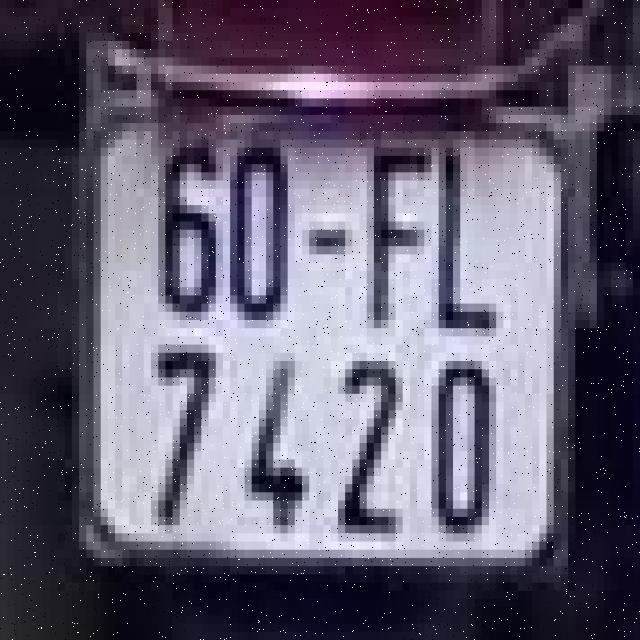0: (424, 353, 511, 541), (223, 135, 309, 324)
2: (331, 336, 410, 550)
4: (238, 344, 316, 542)
6: (148, 135, 226, 324)
7: (144, 336, 230, 534)
F: (356, 140, 435, 328)
L: (424, 127, 504, 341)
